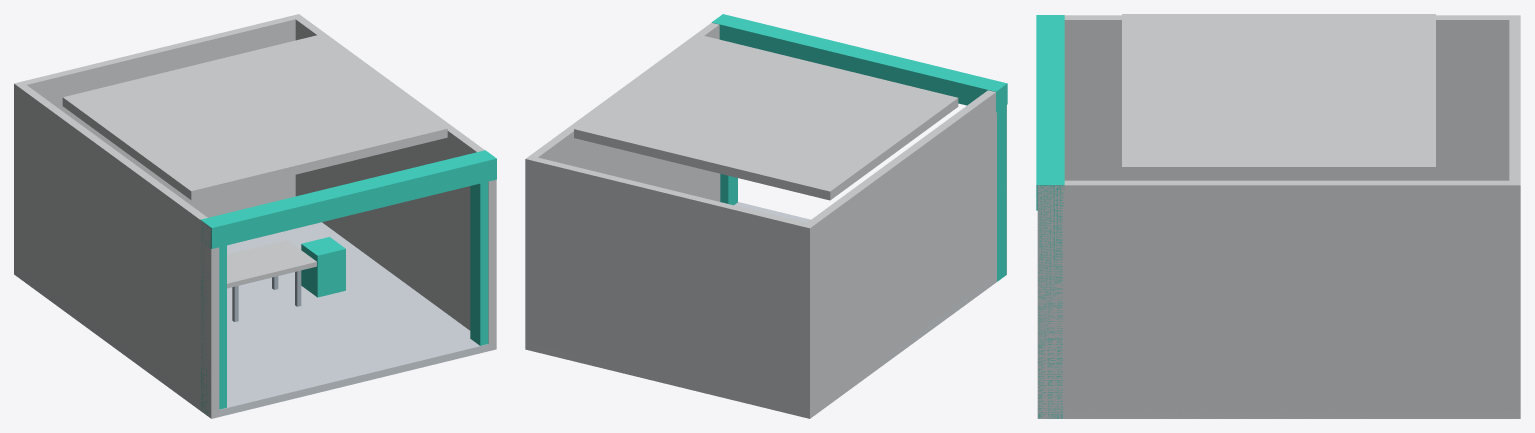
3 renders of one model, left to right at view 1: azimuth 30°, elevation 25°; view 2: azimuth 150°, elevation 25°; view 3: azimuth 270°, elevation 25°, orthographic. The views are drawn at different scales.
Parts seen in each view (by area): view 1: Exhibition Booth Concept; view 2: Exhibition Booth Concept; view 3: Exhibition Booth Concept.
Part boxes in pixels (x1,y1,x2,y2): Exhibition Booth Concept: (14, 14, 496, 418); Exhibition Booth Concept: (525, 14, 1007, 418); Exhibition Booth Concept: (1036, 14, 1520, 418).
Bounding box in the file's own units: 5 × 3.34 × 6.02.
